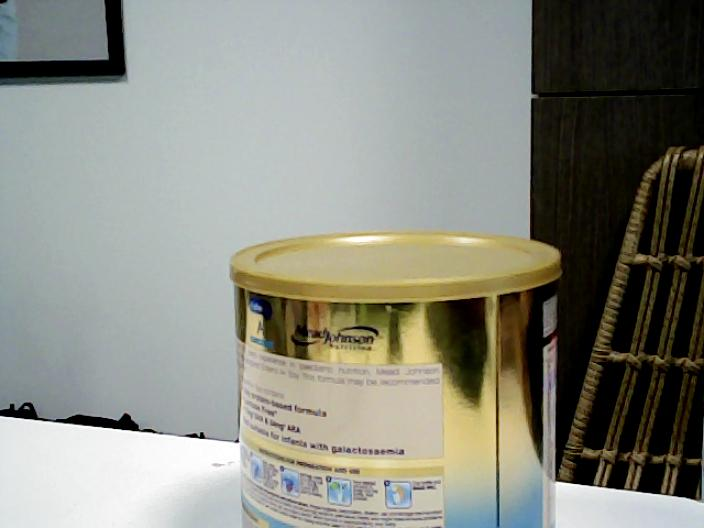Babymilk-powder-_800-899g_NonHalal_NonHealthy: (224, 231, 562, 528)
